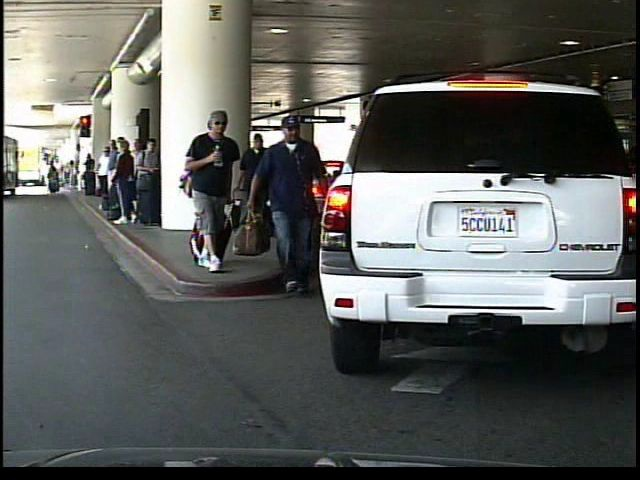person: (247, 101, 323, 292), (183, 105, 243, 273), (239, 135, 279, 242)
